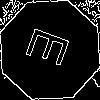E: (25, 25, 79, 72)
